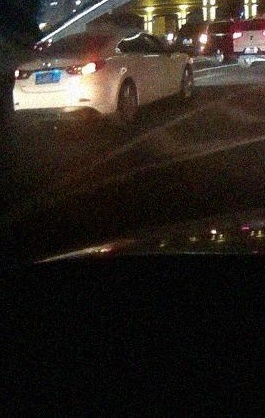L_light: (13, 67, 33, 80), (167, 33, 173, 41)
R_light: (65, 59, 106, 76), (198, 34, 208, 44)
T_light: (72, 36, 90, 39), (190, 23, 199, 26)
night-no: (166, 20, 210, 67)
night-right: (12, 30, 114, 138)
